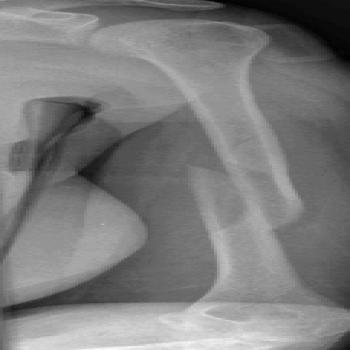Fracture: (171, 157, 310, 228)
